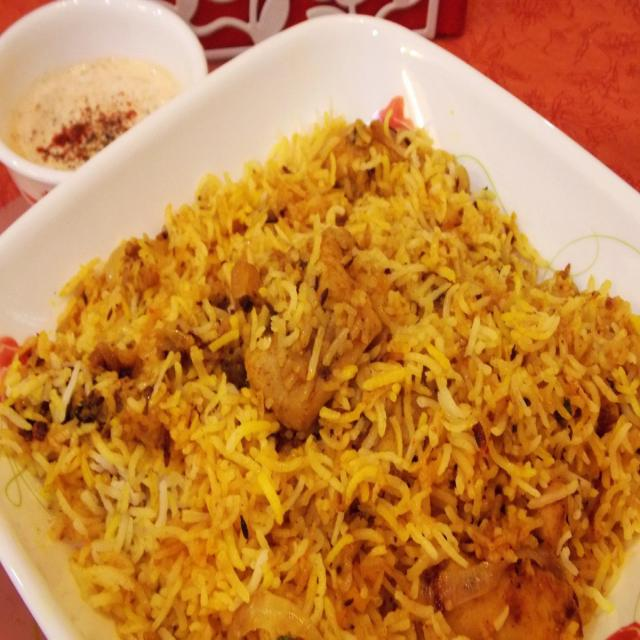chicken biryani: (58, 211, 602, 640)
